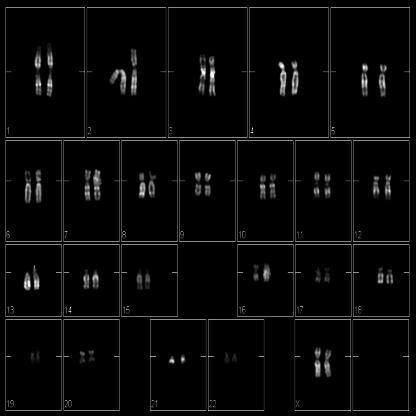1: (34, 42, 44, 99), (45, 41, 54, 99)
10: (267, 171, 278, 201), (258, 172, 266, 202)
11: (322, 172, 332, 200), (312, 170, 321, 200)
12: (371, 171, 381, 202), (384, 172, 392, 202)
13: (31, 262, 40, 294), (22, 269, 31, 292)
14: (90, 268, 101, 290), (82, 268, 91, 290)
15: (134, 268, 144, 292), (144, 268, 152, 292)
16: (260, 262, 272, 284), (252, 263, 260, 283)
17: (322, 264, 332, 286), (314, 266, 322, 286)
18: (384, 266, 394, 286), (376, 266, 384, 286)
19: (29, 348, 36, 366), (35, 348, 41, 363)
2: (128, 46, 139, 99), (108, 68, 128, 96)
20: (78, 348, 86, 366), (87, 348, 96, 364)
21: (167, 353, 176, 366), (178, 352, 186, 366)
22: (222, 350, 230, 366), (232, 350, 238, 366)
3: (207, 54, 216, 98), (198, 53, 206, 97)
4: (276, 59, 288, 98), (288, 58, 300, 97)
5: (378, 62, 388, 100), (360, 61, 369, 100)
6: (23, 168, 33, 206), (34, 168, 44, 205)
7: (92, 166, 102, 203), (84, 166, 92, 205)
8: (147, 167, 157, 200), (137, 170, 147, 200)
9: (202, 171, 212, 200), (194, 169, 203, 198)
X: (313, 344, 321, 380), (324, 347, 332, 380)
